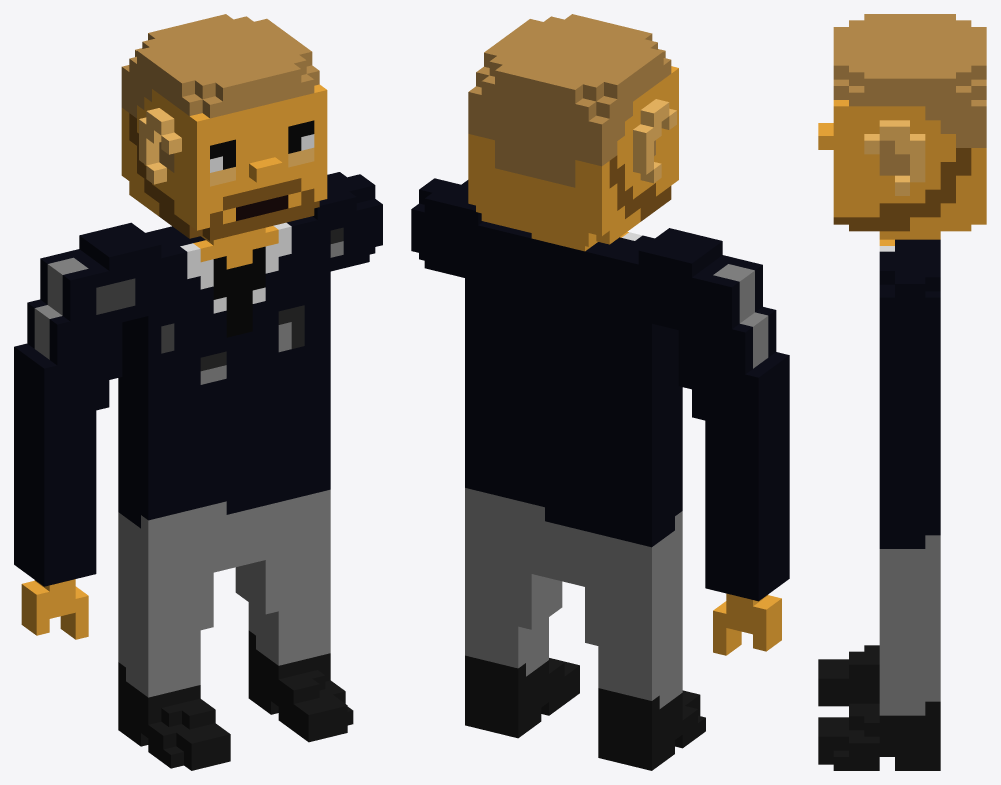
The model's file is 8 Colonel.obj.
3 views of the same model, side by side, from view 1: azimuth 30°, elevation 25°; view 2: azimuth 150°, elevation 25°; view 3: azimuth 270°, elevation 25° (orthographic). The views are drawn at different scales.
Size of the model in its own units: 2.6 by 4.9 by 1.1.
1 material, 1 textured.
